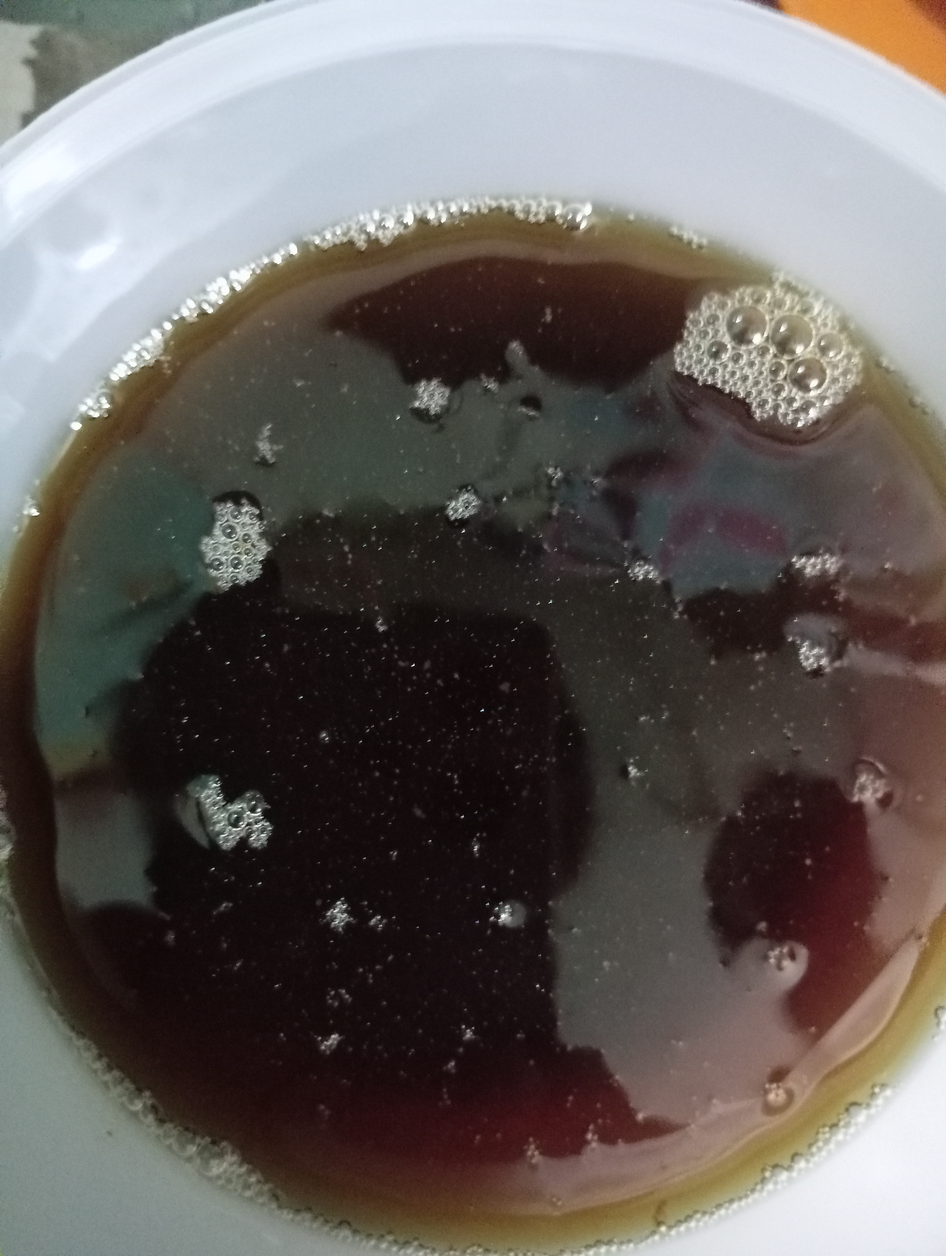non-reusable: (0, 203, 946, 1256)
